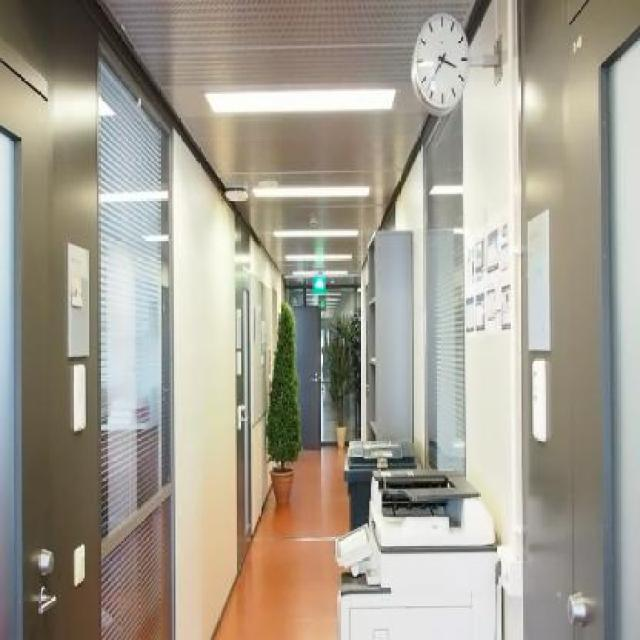emergency_exit: (410, 12, 470, 116), (65, 242, 91, 360)
